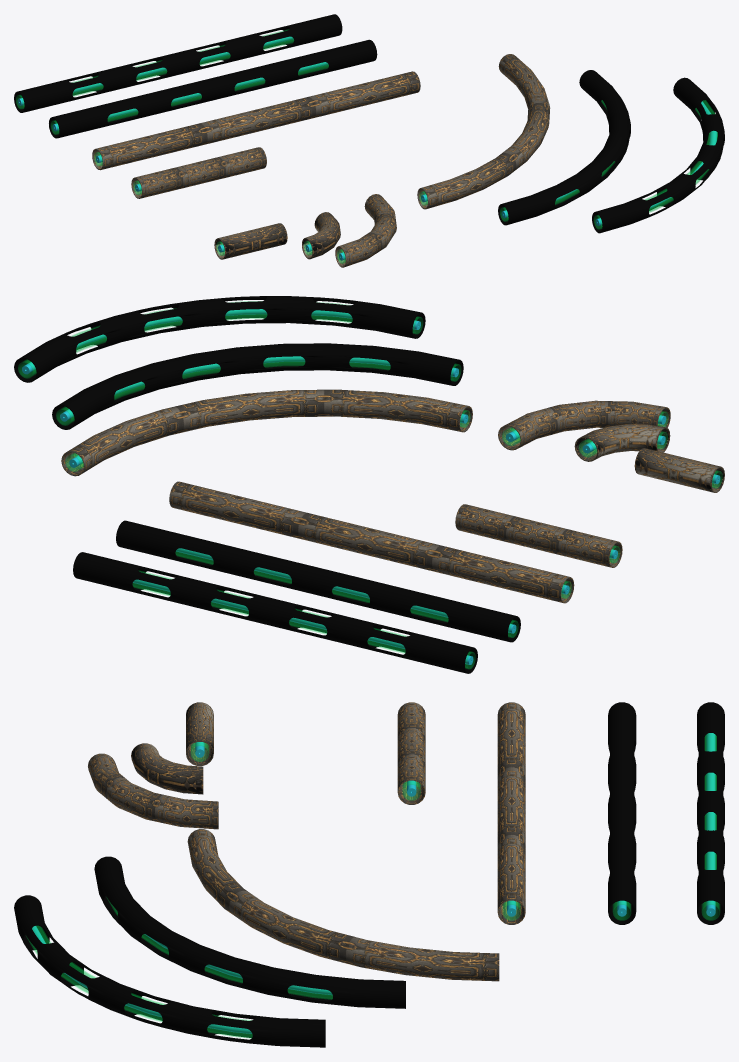
Rendered from sci-fi_energy_conduit_system.glb.
The picture shows the model from 3 angles, top to bottom: view 1: azimuth 30°, elevation 25°; view 2: azimuth 150°, elevation 25°; view 3: azimuth 270°, elevation 25°; orthographic projection. The views are drawn at different scales.
Parts seen in each view (by area): view 1: MaterialFBXASC032FBXASC0352142150746 (×10), MaterialFBXASC032FBXASC03511294 (×3), MaterialFBXASC032FBXASC03511293 (×2); view 2: MaterialFBXASC032FBXASC0352142150746 (×10), MaterialFBXASC032FBXASC03511294 (×4), MaterialFBXASC032FBXASC03511293 (×4); view 3: MaterialFBXASC032FBXASC0352142150746 (×10), MaterialFBXASC032FBXASC03511294 (×3), MaterialFBXASC032FBXASC03511293.
Boxes of the visible parts, box(x1,y1,x2,y2) form: MaterialFBXASC032FBXASC0352142150746 (×10): box(14, 14, 724, 267); MaterialFBXASC032FBXASC03511294 (×3): box(16, 29, 717, 229); MaterialFBXASC032FBXASC03511293 (×2): box(17, 36, 328, 131); MaterialFBXASC032FBXASC0352142150746 (×10): box(14, 296, 724, 673); MaterialFBXASC032FBXASC03511294 (×4): box(18, 301, 518, 668); MaterialFBXASC032FBXASC03511293 (×4): box(22, 309, 516, 664); MaterialFBXASC032FBXASC0352142150746 (×10): box(14, 702, 724, 1047); MaterialFBXASC032FBXASC03511294 (×3): box(26, 733, 719, 1038); MaterialFBXASC032FBXASC03511293: box(706, 733, 715, 916).
Size of the model in its own units: 82.19 by 2.95 by 76.04.
3 materials, 1 textured.
